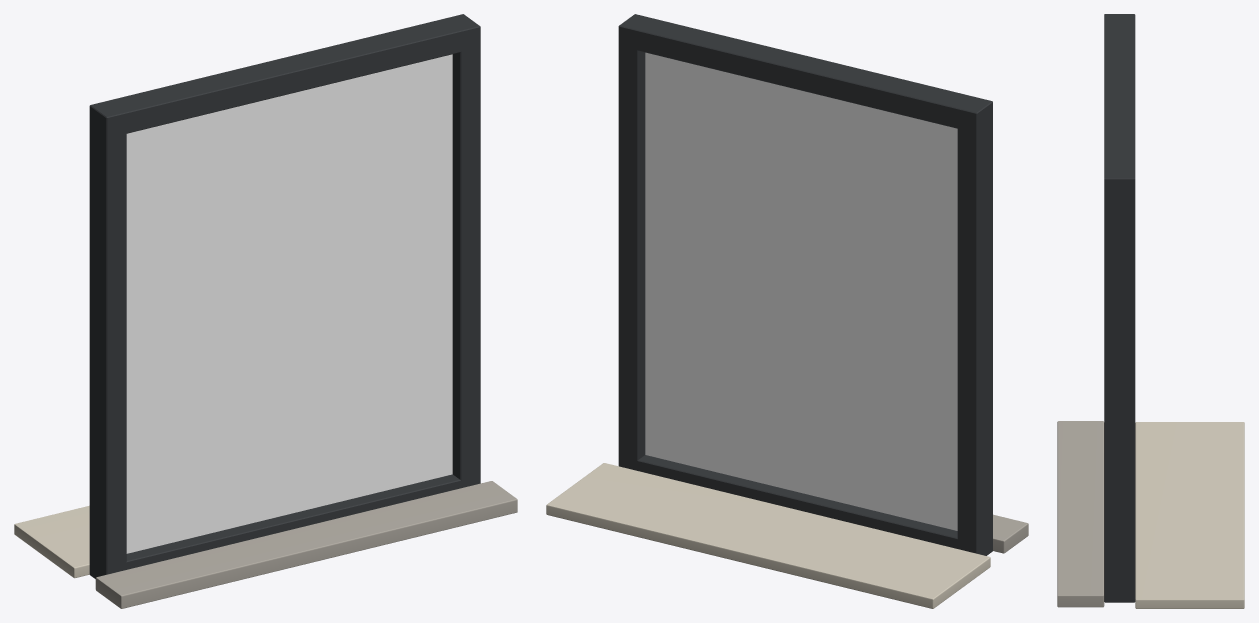
Rendered from prop_window_w100_h120_frosted.glb.
3 renders of one model, left to right at view 1: azimuth 30°, elevation 25°; view 2: azimuth 150°, elevation 25°; view 3: azimuth 270°, elevation 25°, orthographic. The views are drawn at different scales.
Parts seen in each view (by area): view 1: Glass, Frame; view 2: Glass, Frame; view 3: Frame.
Boxes of the visible parts, x1,y1,x2,y2 form: Glass: (126, 54, 452, 553); Frame: (14, 14, 517, 608); Glass: (645, 52, 957, 530); Frame: (546, 14, 1028, 608); Frame: (1057, 14, 1244, 608).
Size of the model in its own units: 1.08 by 1.2 by 0.48.
